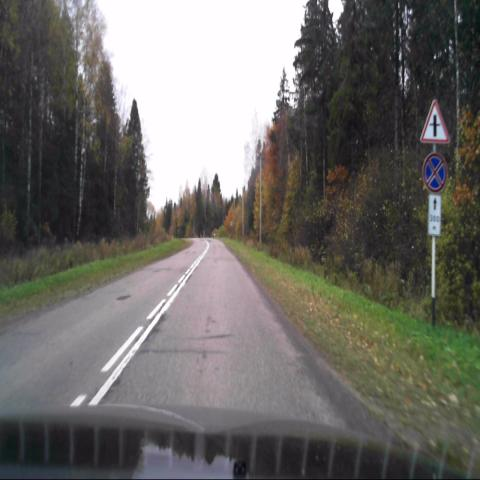2_3: (420, 98, 449, 144)
8_2_2: (428, 194, 441, 238)
